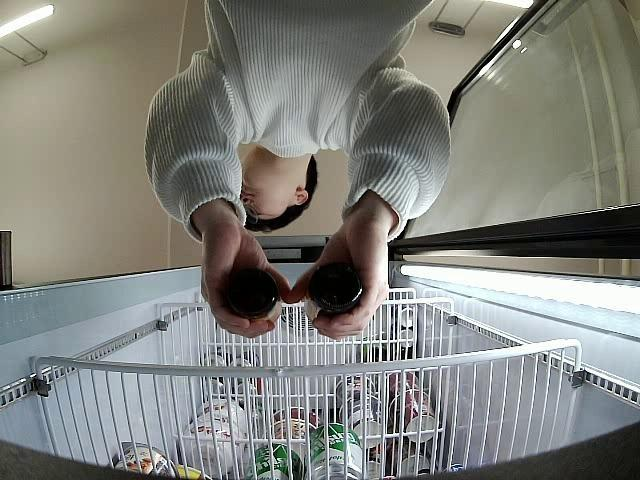17_vita500: (217, 262, 283, 324), (306, 258, 366, 323)
